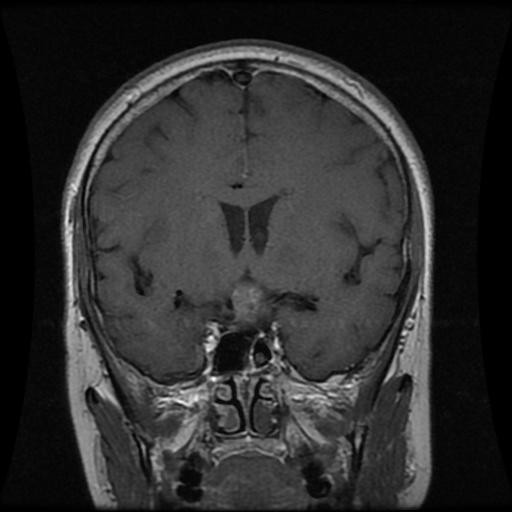pituitary: (230, 279, 269, 322)
